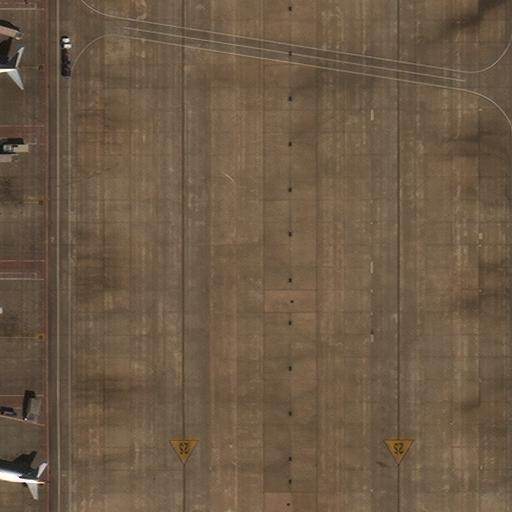Medium Civil Transport: (0, 429, 45, 502)
